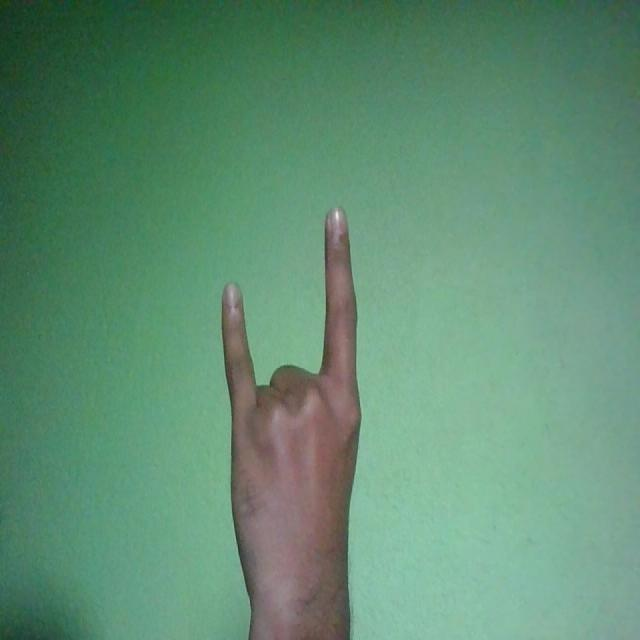open Plam: (221, 206, 362, 624)
